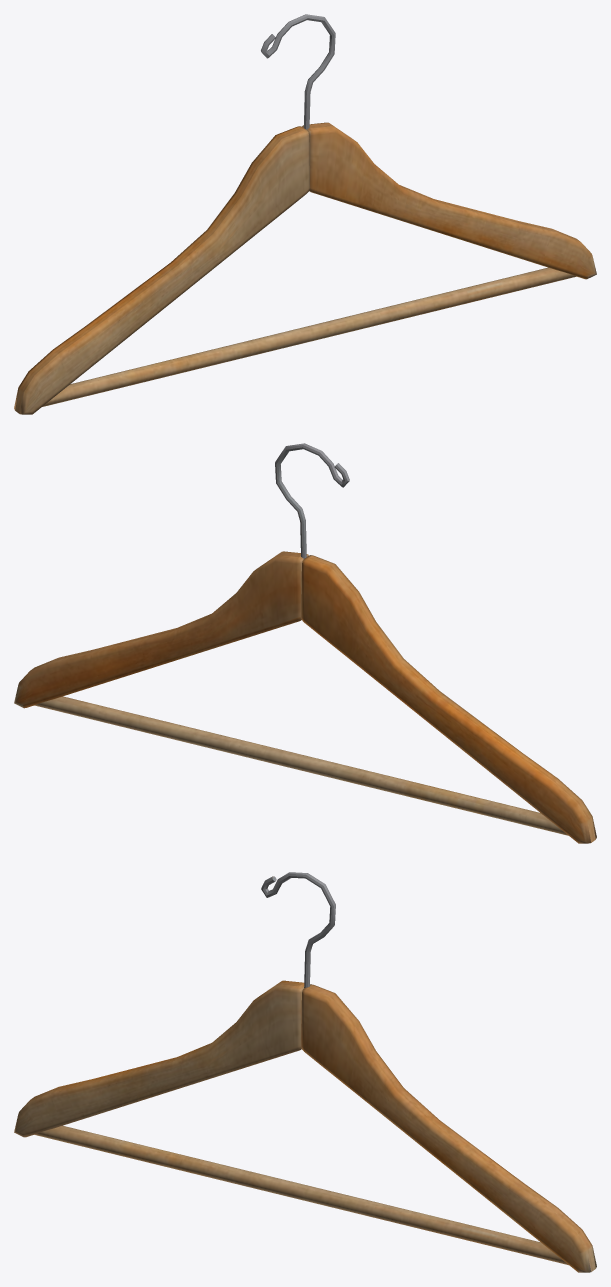
File: hanger.glb
3 views of the same model, one above another, from view 1: azimuth 30°, elevation 25°; view 2: azimuth 150°, elevation 25°; view 3: azimuth 330°, elevation 25° (orthographic).
Parts seen in each view (by area): view 1: hanger; view 2: hanger; view 3: hanger.
Boxes of the visible parts, x1=… form: hanger: x1=14, y1=14, x2=596, y2=414; hanger: x1=14, y1=443, x2=596, y2=843; hanger: x1=14, y1=872, x2=596, y2=1272.
Size of the model in its own units: 0.44 by 0.2411 by 0.0131.
1 material, 1 textured.
